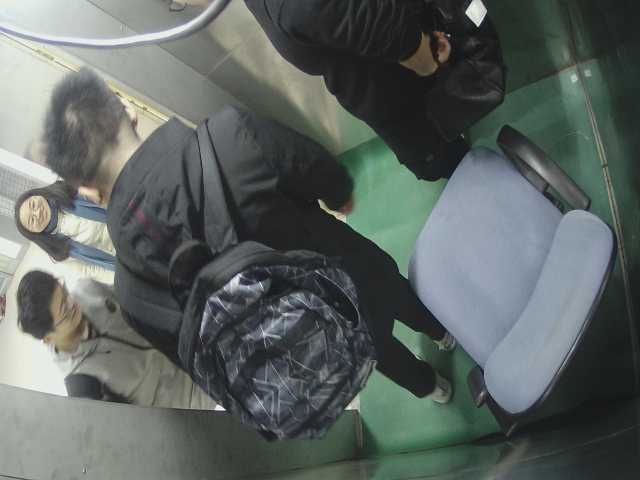bag: (182, 249, 383, 451)
chair: (403, 125, 626, 443)
person: (41, 62, 405, 360), (17, 260, 186, 393), (7, 175, 121, 270)
